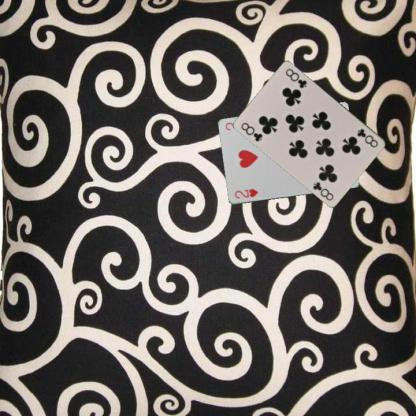2h: (232, 186, 259, 200)
8c: (354, 126, 379, 149), (239, 119, 264, 142)
